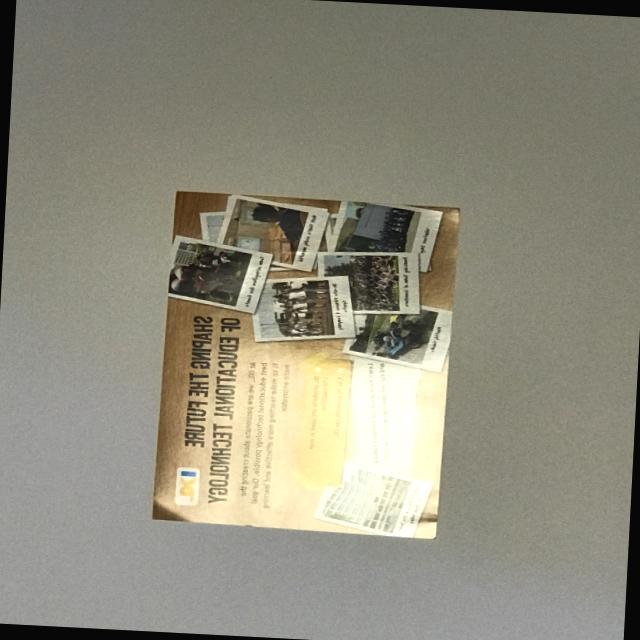Paper: (161, 192, 462, 530)
